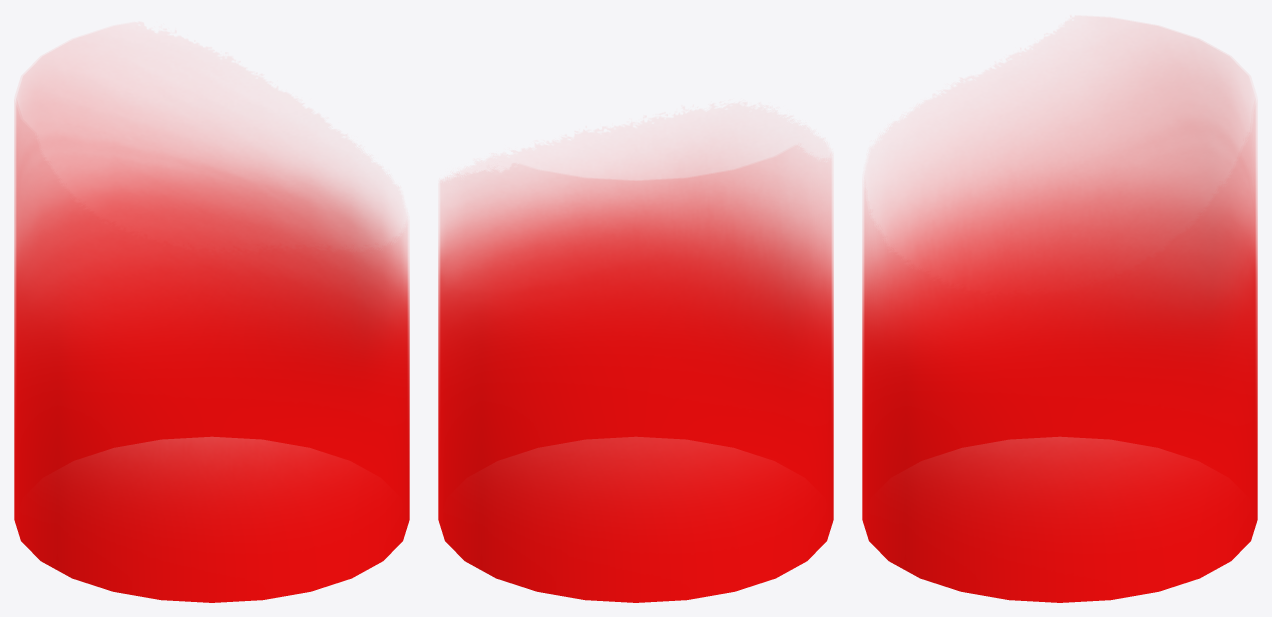
The model's file is portal.glb.
3 views of the same model, side by side, from view 1: azimuth 30°, elevation 25°; view 2: azimuth 150°, elevation 25°; view 3: azimuth 270°, elevation 25° (orthographic).
Visible parts, largest first — view 1: portal; view 2: portal; view 3: portal.
Boxes of the visible parts, left/top/right/bottom form: portal: left=14, top=69, right=409, bottom=602; portal: left=438, top=149, right=833, bottom=602; portal: left=862, top=44, right=1257, bottom=602.
Bounding box in the file's own units: 3.4 × 4 × 3.4.
Materials: 1 (1 with a texture image).
